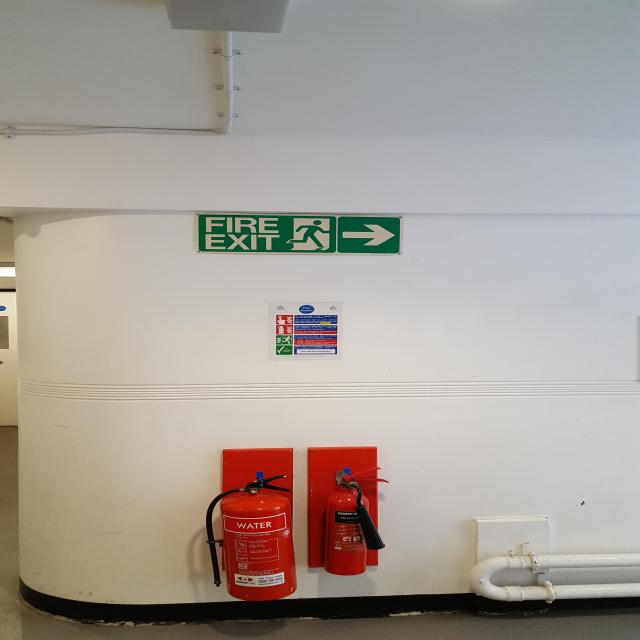fire_extinguisher: (202, 471, 302, 604), (319, 462, 392, 577)
